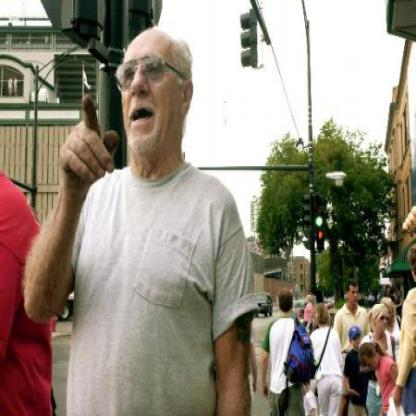face: (118, 28, 184, 154), (361, 347, 380, 378), (376, 309, 391, 335), (348, 282, 362, 307)
